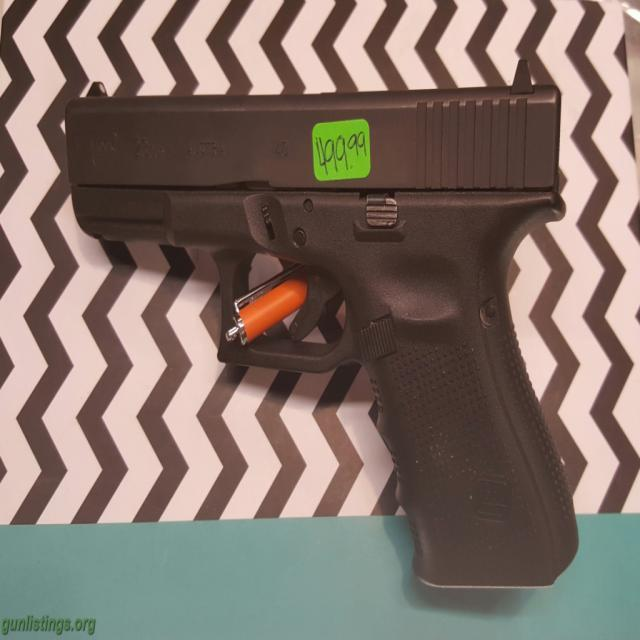Pistol: (49, 48, 596, 607)
